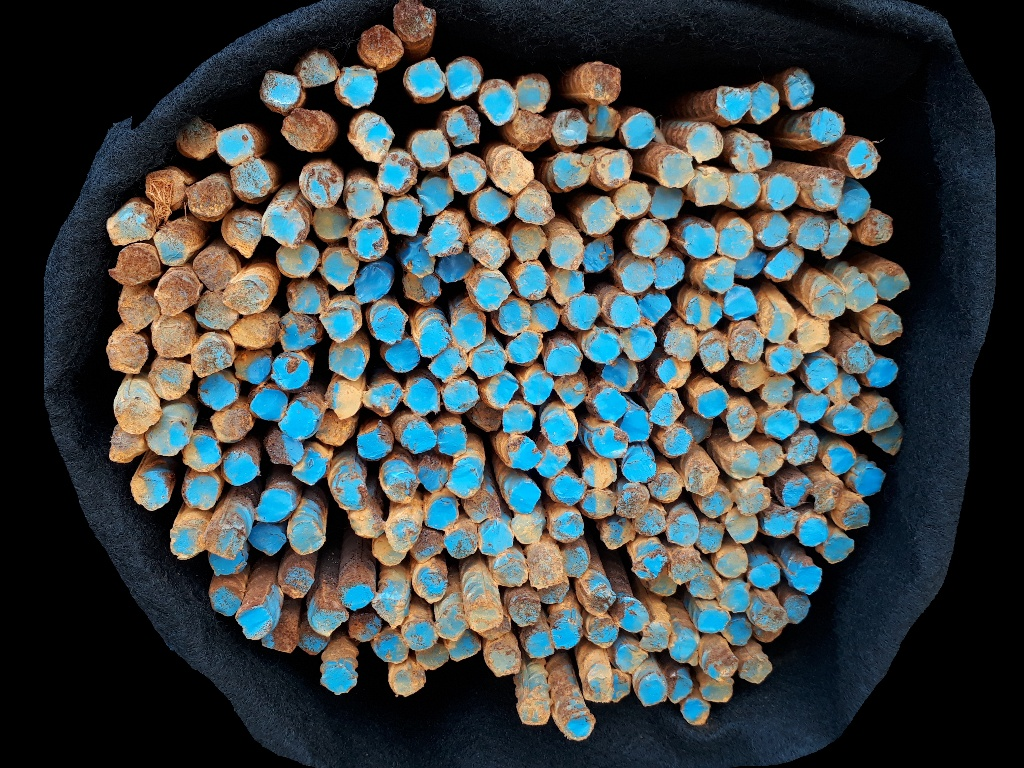dipstick: (106, 201, 155, 245), (110, 242, 158, 285), (403, 57, 445, 103), (156, 272, 199, 316), (282, 110, 328, 151), (152, 314, 193, 360), (358, 25, 403, 66), (263, 205, 308, 246), (300, 163, 340, 209), (106, 331, 147, 375), (195, 249, 236, 292), (193, 334, 234, 376), (223, 214, 262, 258), (113, 394, 158, 432), (226, 277, 273, 313), (394, 1, 435, 42), (491, 151, 532, 192), (149, 360, 192, 399), (188, 179, 230, 218), (583, 61, 622, 103), (480, 79, 515, 125), (355, 116, 392, 159), (119, 287, 156, 330), (380, 151, 416, 195), (445, 56, 480, 101), (355, 261, 393, 302), (469, 230, 508, 269), (553, 152, 592, 191), (339, 67, 377, 107), (369, 303, 407, 343), (428, 219, 468, 256), (596, 150, 633, 189), (808, 280, 845, 319), (385, 197, 421, 237), (686, 122, 722, 162), (718, 218, 753, 259), (233, 314, 277, 346), (208, 408, 252, 440), (621, 110, 655, 151), (715, 85, 752, 122), (184, 436, 221, 473), (510, 225, 546, 263), (328, 344, 366, 380), (473, 189, 512, 224), (352, 222, 387, 261), (278, 315, 318, 349), (147, 168, 184, 204), (552, 109, 588, 146), (513, 112, 549, 149), (449, 155, 486, 191), (633, 220, 669, 257), (199, 373, 236, 409), (180, 119, 215, 157), (323, 306, 361, 341), (130, 475, 168, 510), (170, 520, 205, 558), (694, 168, 728, 207), (323, 249, 357, 288), (288, 280, 327, 314), (272, 356, 312, 389), (615, 182, 651, 218), (300, 52, 338, 86), (230, 161, 268, 195), (414, 129, 448, 167), (549, 232, 583, 270), (198, 294, 236, 328), (261, 71, 300, 104), (766, 171, 799, 210), (448, 106, 480, 146), (277, 246, 318, 277), (752, 80, 780, 125), (404, 380, 440, 415), (249, 523, 286, 557), (418, 177, 451, 215), (733, 139, 771, 172), (149, 422, 187, 455), (442, 381, 480, 414), (156, 227, 188, 266), (364, 383, 403, 415), (347, 181, 382, 216), (475, 275, 510, 310), (183, 475, 218, 510), (516, 265, 551, 300), (766, 245, 801, 280), (651, 390, 686, 425), (218, 127, 255, 160), (583, 197, 615, 235), (254, 490, 292, 522), (515, 77, 549, 112), (727, 173, 761, 208), (326, 383, 361, 417), (236, 349, 271, 383), (683, 223, 718, 257), (283, 404, 316, 440), (660, 151, 694, 185), (689, 296, 723, 330), (585, 331, 620, 364), (552, 375, 588, 407), (418, 319, 449, 356), (289, 523, 326, 554), (584, 234, 614, 272), (811, 171, 841, 209), (206, 525, 245, 554), (552, 611, 581, 650), (280, 566, 314, 599), (810, 109, 843, 143), (622, 329, 656, 362), (805, 359, 838, 393), (616, 598, 649, 632), (452, 314, 484, 349), (224, 451, 256, 486), (109, 432, 145, 463), (848, 141, 878, 178), (517, 194, 555, 223), (651, 186, 684, 219), (860, 212, 893, 245), (758, 212, 791, 245), (508, 331, 542, 363), (424, 498, 458, 530), (508, 437, 540, 471), (595, 389, 627, 423), (822, 442, 854, 476), (314, 209, 349, 240), (251, 389, 286, 420), (357, 428, 392, 459), (547, 345, 582, 376), (840, 188, 871, 223), (552, 269, 583, 304), (430, 350, 466, 380), (479, 525, 515, 555), (381, 473, 418, 502), (486, 374, 518, 407), (387, 519, 419, 552), (664, 329, 696, 362), (385, 342, 419, 373), (269, 434, 303, 465), (787, 70, 814, 109), (401, 423, 436, 453), (419, 458, 449, 493), (764, 508, 799, 538), (602, 361, 638, 390), (798, 217, 830, 249), (640, 295, 672, 327), (725, 287, 756, 320), (740, 482, 771, 515), (374, 632, 408, 662), (415, 530, 445, 564), (699, 338, 729, 372), (813, 479, 843, 513), (402, 621, 437, 650), (349, 510, 385, 538), (321, 667, 357, 695), (589, 105, 620, 137), (404, 245, 435, 277), (521, 372, 552, 404), (487, 645, 519, 676), (621, 260, 653, 291), (763, 376, 795, 407), (787, 434, 818, 466), (237, 609, 270, 639), (876, 269, 909, 299), (797, 318, 827, 351), (843, 341, 873, 374), (732, 329, 762, 362), (585, 584, 615, 617), (669, 629, 699, 662), (375, 595, 404, 629), (705, 259, 734, 293), (764, 411, 798, 440), (465, 496, 501, 523), (527, 561, 563, 588), (388, 668, 425, 694), (729, 406, 755, 443), (501, 301, 532, 332), (294, 453, 325, 484), (448, 466, 479, 497), (539, 446, 570, 477), (847, 280, 878, 311), (833, 405, 864, 436), (698, 388, 729, 419), (654, 256, 684, 288), (865, 401, 897, 431), (726, 512, 758, 542), (438, 424, 467, 457), (340, 580, 373, 609), (510, 482, 539, 515), (657, 359, 690, 388), (632, 551, 666, 579), (405, 277, 441, 303), (492, 559, 528, 585), (617, 486, 647, 517), (348, 611, 380, 640), (414, 573, 446, 602), (871, 313, 903, 342), (570, 296, 599, 328), (764, 310, 793, 342), (687, 462, 716, 494), (601, 520, 633, 549), (312, 610, 349, 635), (594, 429, 627, 457), (769, 346, 803, 373), (668, 516, 698, 546), (208, 587, 239, 616), (320, 416, 351, 445), (551, 512, 582, 541), (634, 507, 665, 536), (445, 531, 477, 559), (612, 295, 640, 327), (734, 362, 766, 390), (551, 478, 584, 505), (470, 351, 505, 376), (439, 258, 474, 283), (729, 448, 758, 478), (524, 631, 555, 659), (512, 515, 543, 543), (749, 561, 780, 589), (564, 547, 592, 578), (827, 221, 851, 257), (796, 394, 828, 421), (584, 460, 616, 487), (689, 572, 721, 599), (705, 652, 737, 679), (262, 630, 299, 653), (467, 607, 501, 632), (337, 481, 366, 510), (511, 598, 540, 627), (586, 489, 615, 518), (588, 618, 617, 647), (783, 478, 811, 508), (721, 584, 751, 612), (531, 301, 558, 332), (623, 456, 654, 483), (651, 474, 682, 501), (502, 408, 534, 434), (758, 445, 784, 477), (518, 700, 551, 725), (699, 493, 733, 517), (209, 553, 246, 575), (298, 627, 327, 655), (830, 376, 860, 403), (854, 468, 885, 494), (671, 557, 702, 583), (734, 253, 766, 278), (741, 659, 773, 684), (664, 427, 691, 456), (793, 566, 822, 593), (717, 551, 747, 577), (785, 594, 811, 624), (373, 540, 404, 565), (615, 646, 646, 671), (447, 639, 482, 661), (799, 518, 827, 545), (643, 624, 671, 651), (438, 612, 467, 638), (871, 358, 897, 387), (640, 676, 666, 705), (699, 522, 723, 553), (756, 607, 787, 631), (698, 609, 729, 633), (473, 405, 501, 431), (584, 675, 612, 701), (625, 410, 649, 440), (702, 679, 733, 702), (417, 647, 449, 669), (566, 714, 594, 739), (668, 674, 692, 703), (683, 700, 710, 725), (825, 539, 853, 562), (688, 415, 712, 441), (845, 503, 869, 529), (728, 618, 751, 645), (540, 583, 569, 603), (612, 671, 630, 702), (650, 579, 676, 596), (757, 629, 780, 642)
